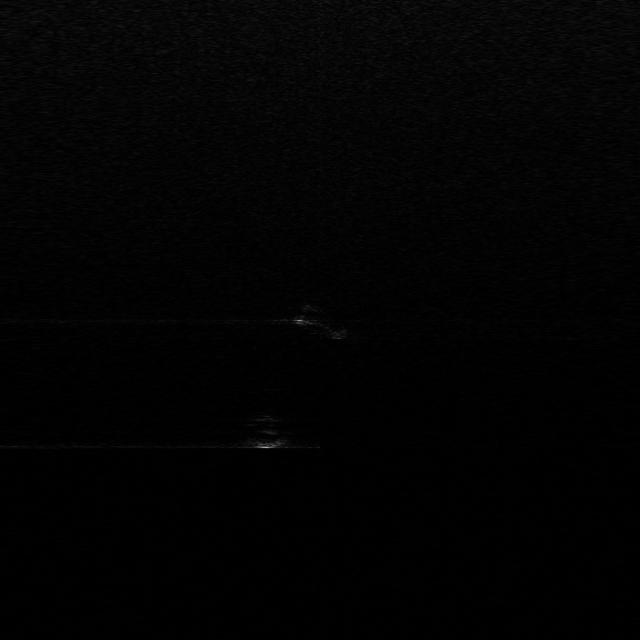ball: (236, 413, 293, 446)
tyre: (293, 304, 351, 341)
